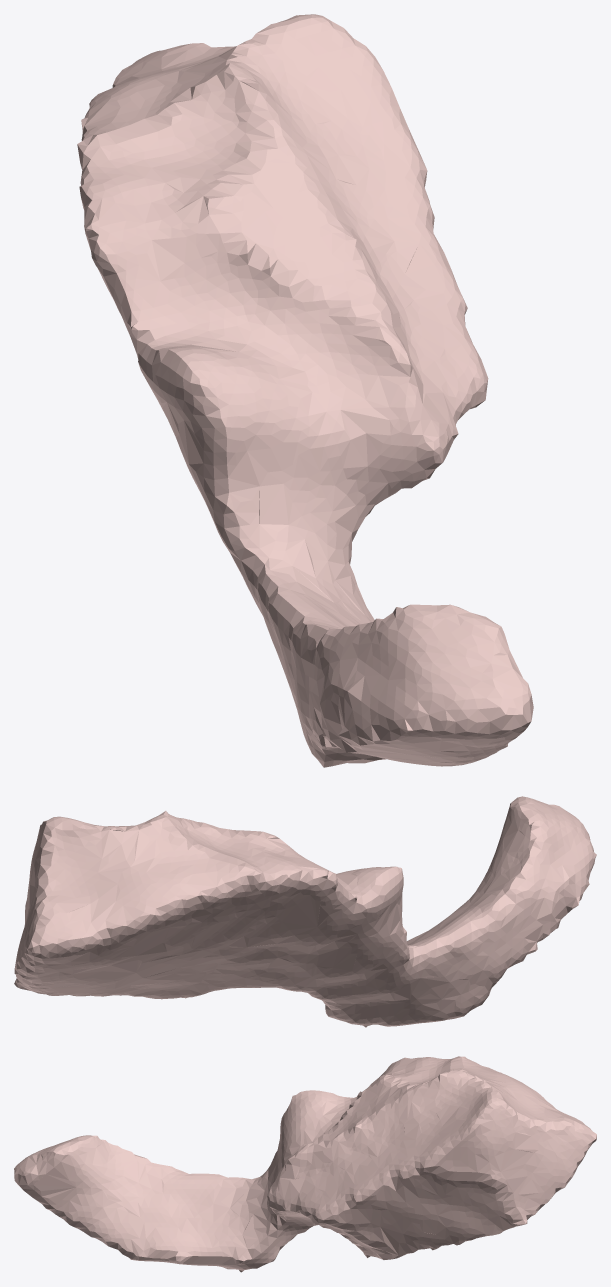
Rendered from Model_134_RH__Temporal_area_TH_(TH).obj.
3 views of the same model, one above another, from view 1: azimuth 30°, elevation 25°; view 2: azimuth 150°, elevation 25°; view 3: azimuth 270°, elevation 25° (orthographic). The views are drawn at different scales.
Size of the model in its own units: 3.21 by 3.28 by 7.62.
